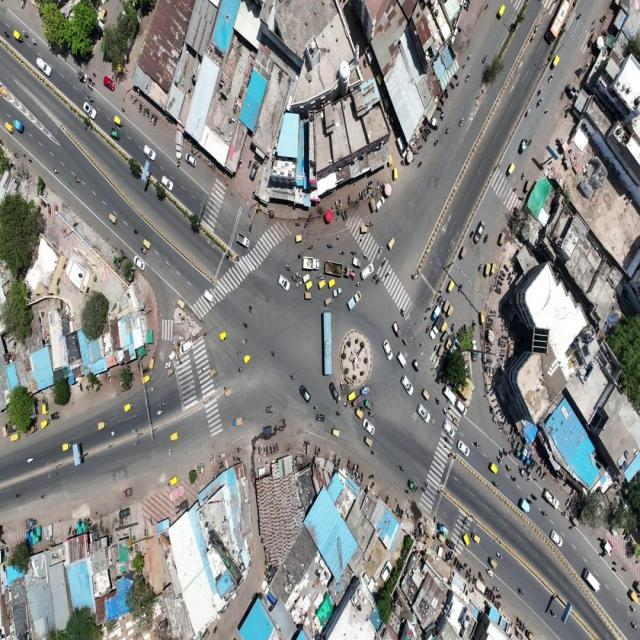3W: (176, 296, 188, 312), (11, 31, 22, 47), (223, 387, 235, 400), (124, 400, 136, 412), (143, 236, 154, 249), (472, 531, 482, 545), (108, 211, 118, 225), (489, 260, 497, 277), (364, 433, 373, 448), (421, 386, 430, 401), (60, 441, 72, 452), (166, 475, 178, 486), (488, 463, 499, 475), (96, 421, 108, 432), (497, 230, 505, 246), (266, 400, 275, 414), (460, 244, 467, 262), (479, 308, 486, 326), (507, 162, 516, 176), (302, 281, 314, 291), (316, 412, 326, 424), (489, 556, 499, 568), (354, 408, 364, 420), (413, 358, 420, 374), (39, 418, 49, 429), (146, 358, 156, 369), (163, 367, 173, 378), (243, 354, 254, 364), (332, 427, 341, 439), (360, 223, 368, 236), (498, 4, 506, 17), (209, 369, 219, 379), (462, 531, 469, 545), (447, 279, 455, 291), (389, 237, 396, 250), (318, 279, 326, 290), (442, 319, 447, 336), (483, 264, 490, 276), (392, 168, 399, 180), (304, 292, 313, 301), (347, 391, 356, 400), (139, 377, 151, 383), (41, 404, 48, 414), (220, 330, 227, 340), (295, 233, 302, 243), (329, 277, 336, 287), (443, 303, 449, 314), (334, 232, 342, 240), (303, 273, 310, 282), (325, 297, 332, 306), (448, 308, 455, 315)
Bus: (321, 306, 334, 376)
Cars: (582, 565, 600, 594), (36, 56, 52, 80), (381, 336, 394, 362), (278, 274, 292, 296), (401, 375, 414, 397), (550, 527, 564, 547), (418, 403, 431, 424), (360, 263, 375, 281), (442, 385, 456, 404), (455, 399, 469, 418), (299, 382, 311, 404), (132, 252, 145, 272), (458, 438, 471, 458), (82, 102, 96, 120), (473, 222, 485, 243), (178, 340, 192, 358), (143, 144, 156, 162), (442, 420, 456, 436), (362, 418, 375, 434), (161, 175, 174, 190), (327, 382, 339, 398), (396, 350, 406, 369), (376, 196, 386, 214), (202, 290, 214, 304)
LCV: (324, 255, 356, 283), (544, 485, 560, 511), (430, 316, 443, 346), (302, 252, 320, 273), (346, 290, 362, 311), (236, 231, 250, 248), (407, 476, 418, 492), (13, 117, 23, 134), (350, 392, 361, 407), (519, 500, 531, 513), (438, 524, 450, 537), (360, 383, 370, 397), (432, 307, 441, 321), (121, 487, 133, 497), (351, 257, 362, 267), (365, 398, 374, 410), (394, 321, 401, 336), (262, 426, 272, 436), (333, 286, 342, 296)
M2W: (71, 172, 82, 188), (629, 600, 638, 617), (417, 156, 424, 176), (442, 124, 451, 139), (50, 164, 60, 177), (518, 584, 526, 600), (432, 138, 441, 152), (535, 82, 544, 96), (38, 490, 50, 500), (498, 446, 508, 458), (628, 621, 638, 633), (543, 106, 550, 122), (463, 73, 474, 83), (457, 116, 465, 129), (473, 436, 481, 449), (536, 97, 544, 109), (268, 349, 278, 358), (241, 335, 250, 345), (158, 397, 167, 407), (494, 551, 504, 560), (234, 348, 242, 359), (325, 240, 333, 251), (375, 278, 382, 290), (550, 610, 557, 622), (521, 168, 527, 182), (548, 73, 555, 85), (242, 320, 250, 330), (510, 474, 518, 484), (403, 335, 409, 348), (457, 282, 464, 293), (335, 408, 342, 419), (157, 409, 164, 420), (247, 305, 256, 313), (361, 251, 369, 260), (483, 230, 489, 242), (486, 569, 494, 578), (371, 446, 377, 458), (398, 464, 407, 472), (237, 365, 244, 375), (540, 509, 547, 519), (378, 243, 384, 254), (524, 107, 530, 118), (138, 248, 146, 256), (424, 481, 431, 490), (531, 489, 538, 498), (438, 287, 445, 296), (297, 278, 302, 290), (400, 305, 405, 317), (492, 480, 498, 490), (505, 462, 511, 472), (481, 54, 487, 64), (356, 278, 362, 288), (296, 251, 303, 259), (425, 324, 432, 332), (314, 402, 319, 413), (284, 261, 290, 270), (340, 246, 346, 255), (296, 269, 302, 278), (380, 260, 386, 269), (359, 402, 365, 411), (343, 400, 349, 409), (368, 410, 374, 418), (290, 372, 294, 384), (291, 275, 297, 282), (308, 244, 314, 251), (384, 271, 390, 278), (439, 298, 445, 305), (371, 275, 376, 283), (134, 228, 139, 235), (497, 456, 502, 463), (527, 496, 531, 504)
